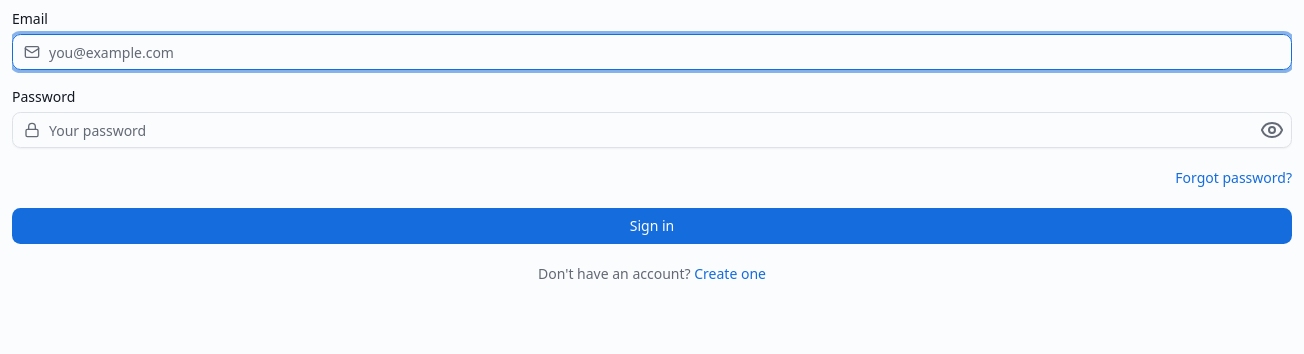
Test: LoginForm › maps 401 INVALID_CREDENTIALS to the shared error catalog
Type "admin@example.com" into the field labelled "Email".
click(652, 52); type("admin@example.com")  # box top-left (12, 34), bottom-right (1292, 70)
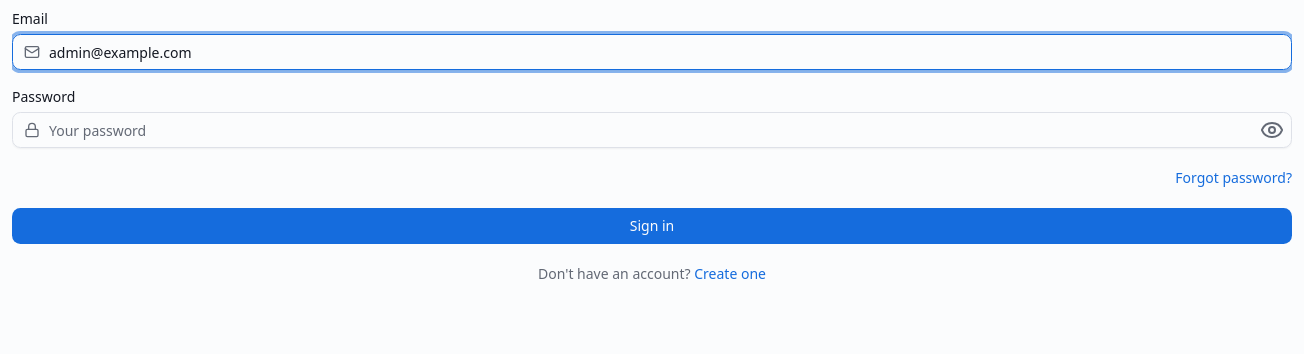
Type "wrong-password" into the password field labelled "Password".
click(652, 130); type("wrong-password")  # box top-left (12, 112), bottom-right (1292, 148)
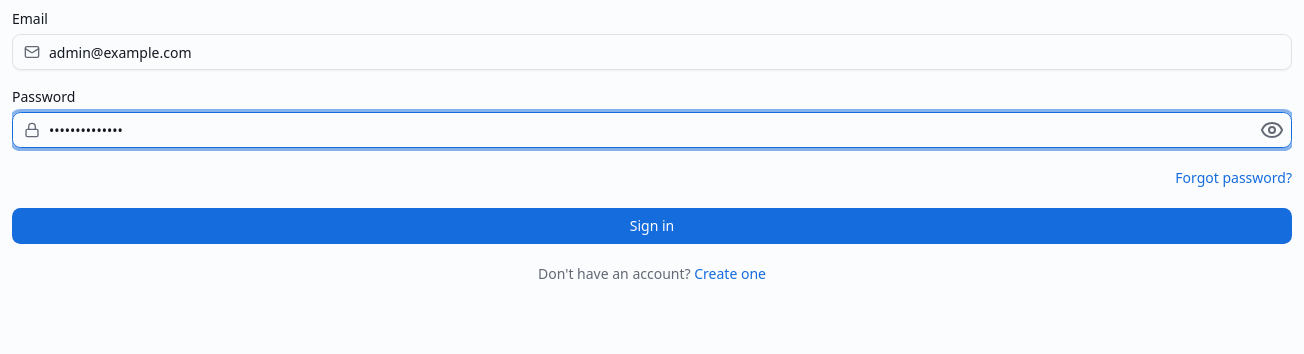
Click the button "Sign in".
click(652, 226)  # box top-left (12, 208), bottom-right (1292, 244)
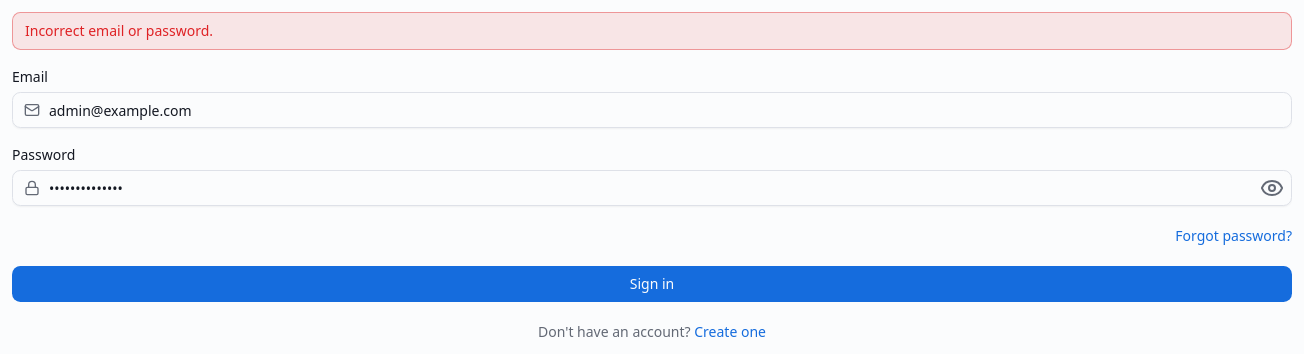
expect the message shows "email or password": met, box top-left (25, 21), bottom-right (213, 40)
